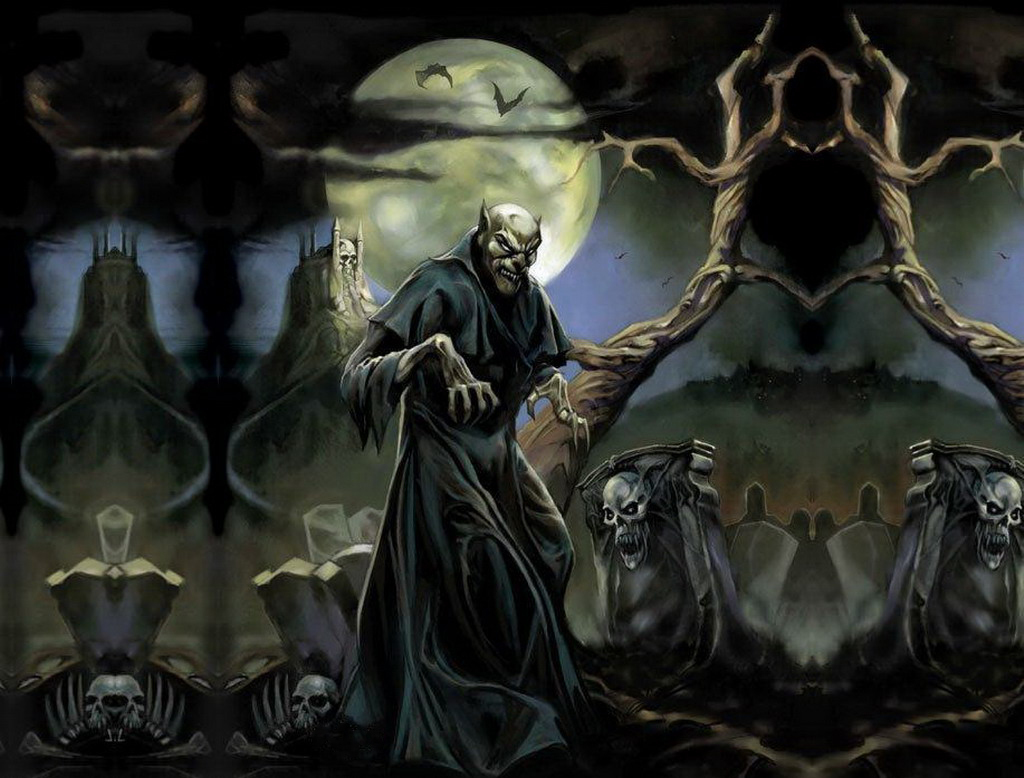person: (16, 253, 215, 533)
